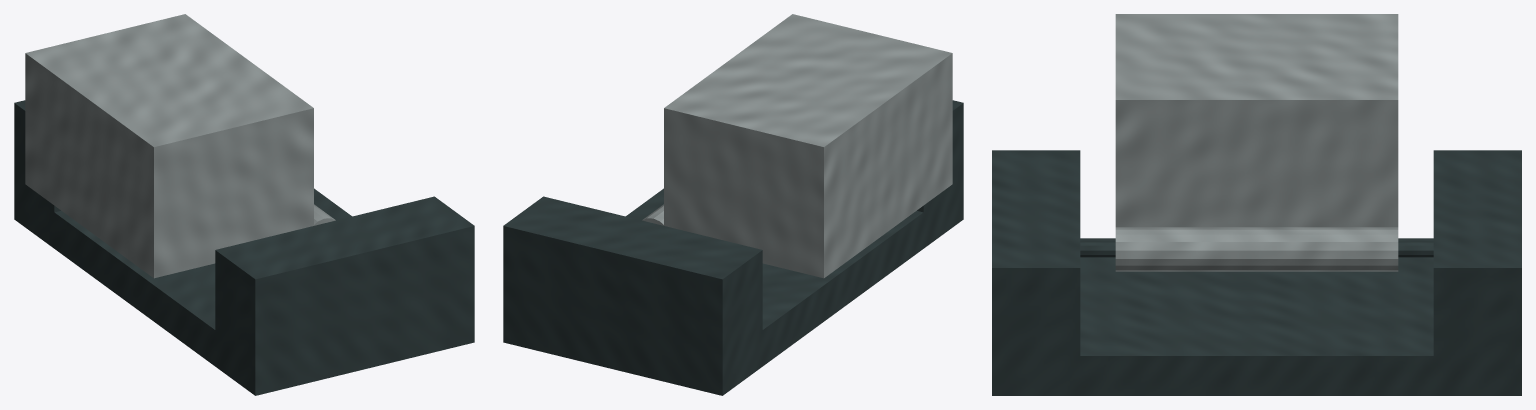
3 renders of one model, left to right at view 1: azimuth 30°, elevation 25°; view 2: azimuth 150°, elevation 25°; view 3: azimuth 270°, elevation 25°, orthographic. The views are drawn at different scales.
Visible parts, largest first — view 1: B026-09_moving_stop_steel, B026-09_mount_iron; view 2: B026-09_moving_stop_steel, B026-09_mount_iron; view 3: B026-09_mount_iron, B026-09_moving_stop_steel, B026-09_frame_iron.
Part boxes in pixels (x1,y1,x2,y2): B026-09_moving_stop_steel: (25,14,335,278); B026-09_mount_iron: (14,100,474,395); B026-09_moving_stop_steel: (642,14,952,278); B026-09_mount_iron: (503,100,963,395); B026-09_mount_iron: (992,150,1521,395); B026-09_moving_stop_steel: (1115,14,1398,271); B026-09_frame_iron: (1080,241,1433,257).
Size of the model in its own units: 0.38 by 0.3 by 0.6.
2 materials, 2 textured.
